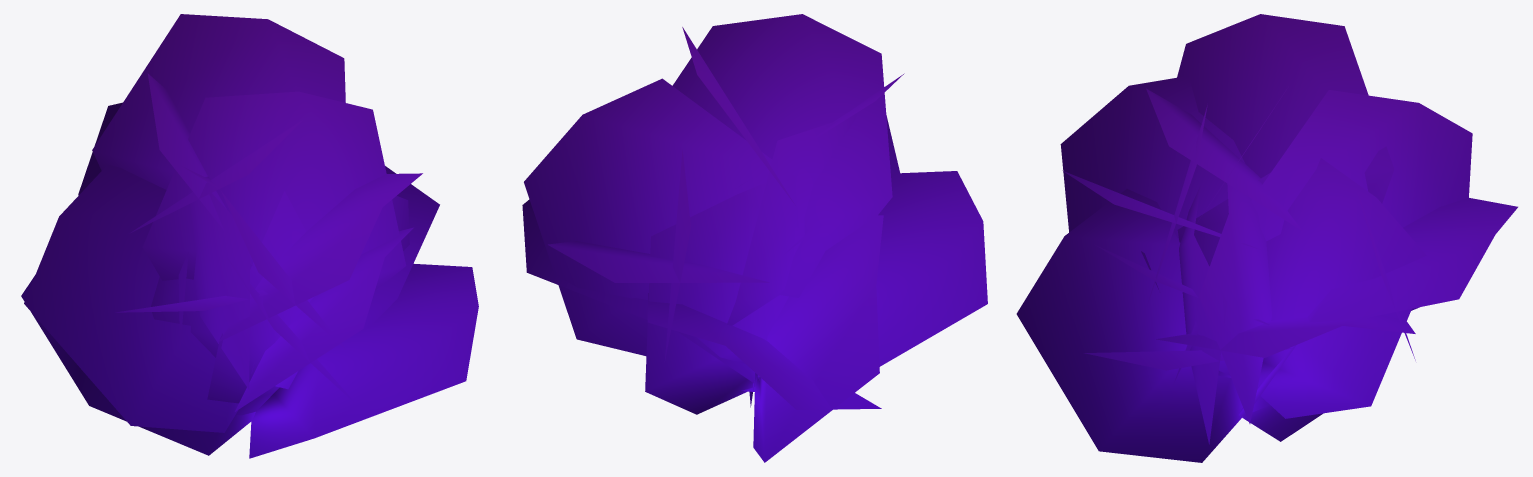
Rendered from synty-plant-bush-leaves-03.gltf.
3 views of the same model, side by side, from view 1: azimuth 30°, elevation 25°; view 2: azimuth 150°, elevation 25°; view 3: azimuth 270°, elevation 25° (orthographic). The views are drawn at different scales.
Parts seen in each view (by area): view 1: SM_Plant_Bush_Leaves_03; view 2: SM_Plant_Bush_Leaves_03; view 3: SM_Plant_Bush_Leaves_03.
Boxes of the visible parts, bbox=[...] form: SM_Plant_Bush_Leaves_03: bbox=[21, 14, 478, 458]; SM_Plant_Bush_Leaves_03: bbox=[522, 14, 987, 462]; SM_Plant_Bush_Leaves_03: bbox=[1016, 14, 1517, 462].
Bounding box in the file's own units: 1.62 × 1.52 × 1.74.
